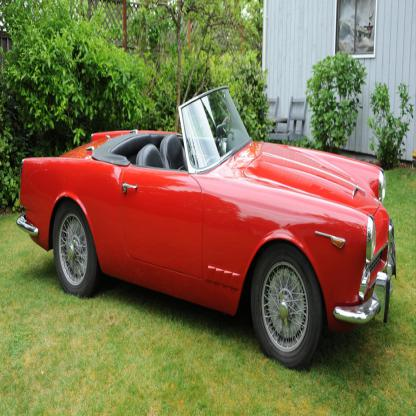Car: (16, 85, 397, 372)
